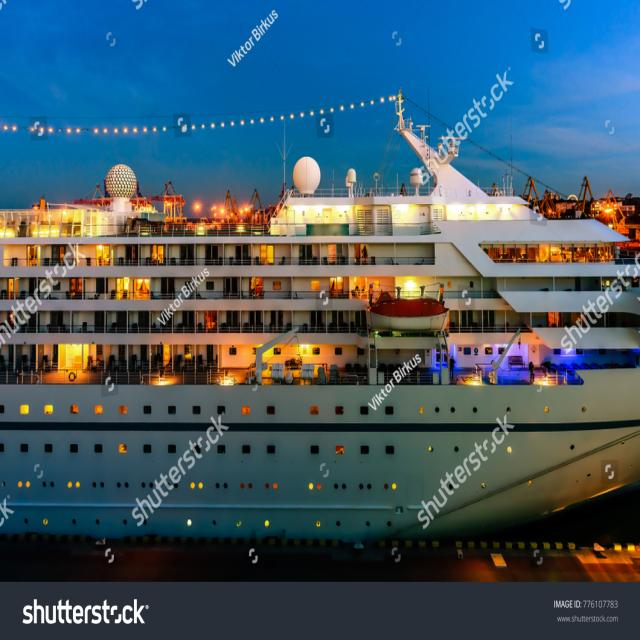PassengerShip: (0, 176, 640, 588)
